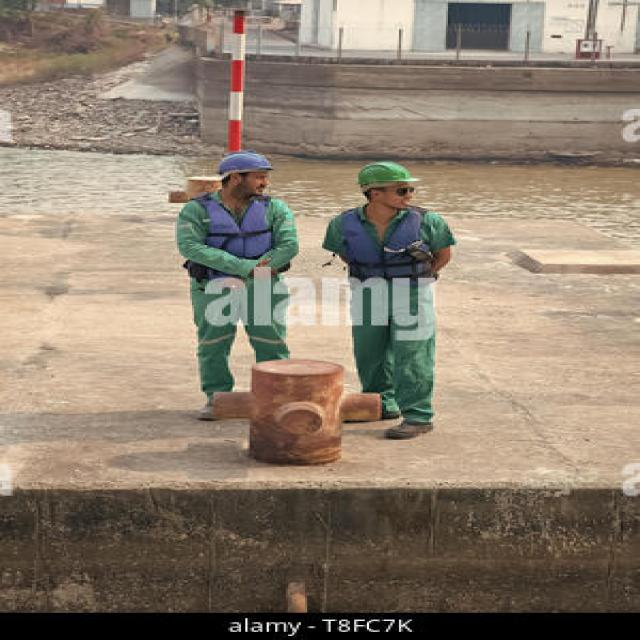Reflective-Jacket: (168, 190, 303, 288), (324, 206, 457, 290)
Safety-Helmet: (348, 157, 424, 192), (205, 147, 279, 181)
